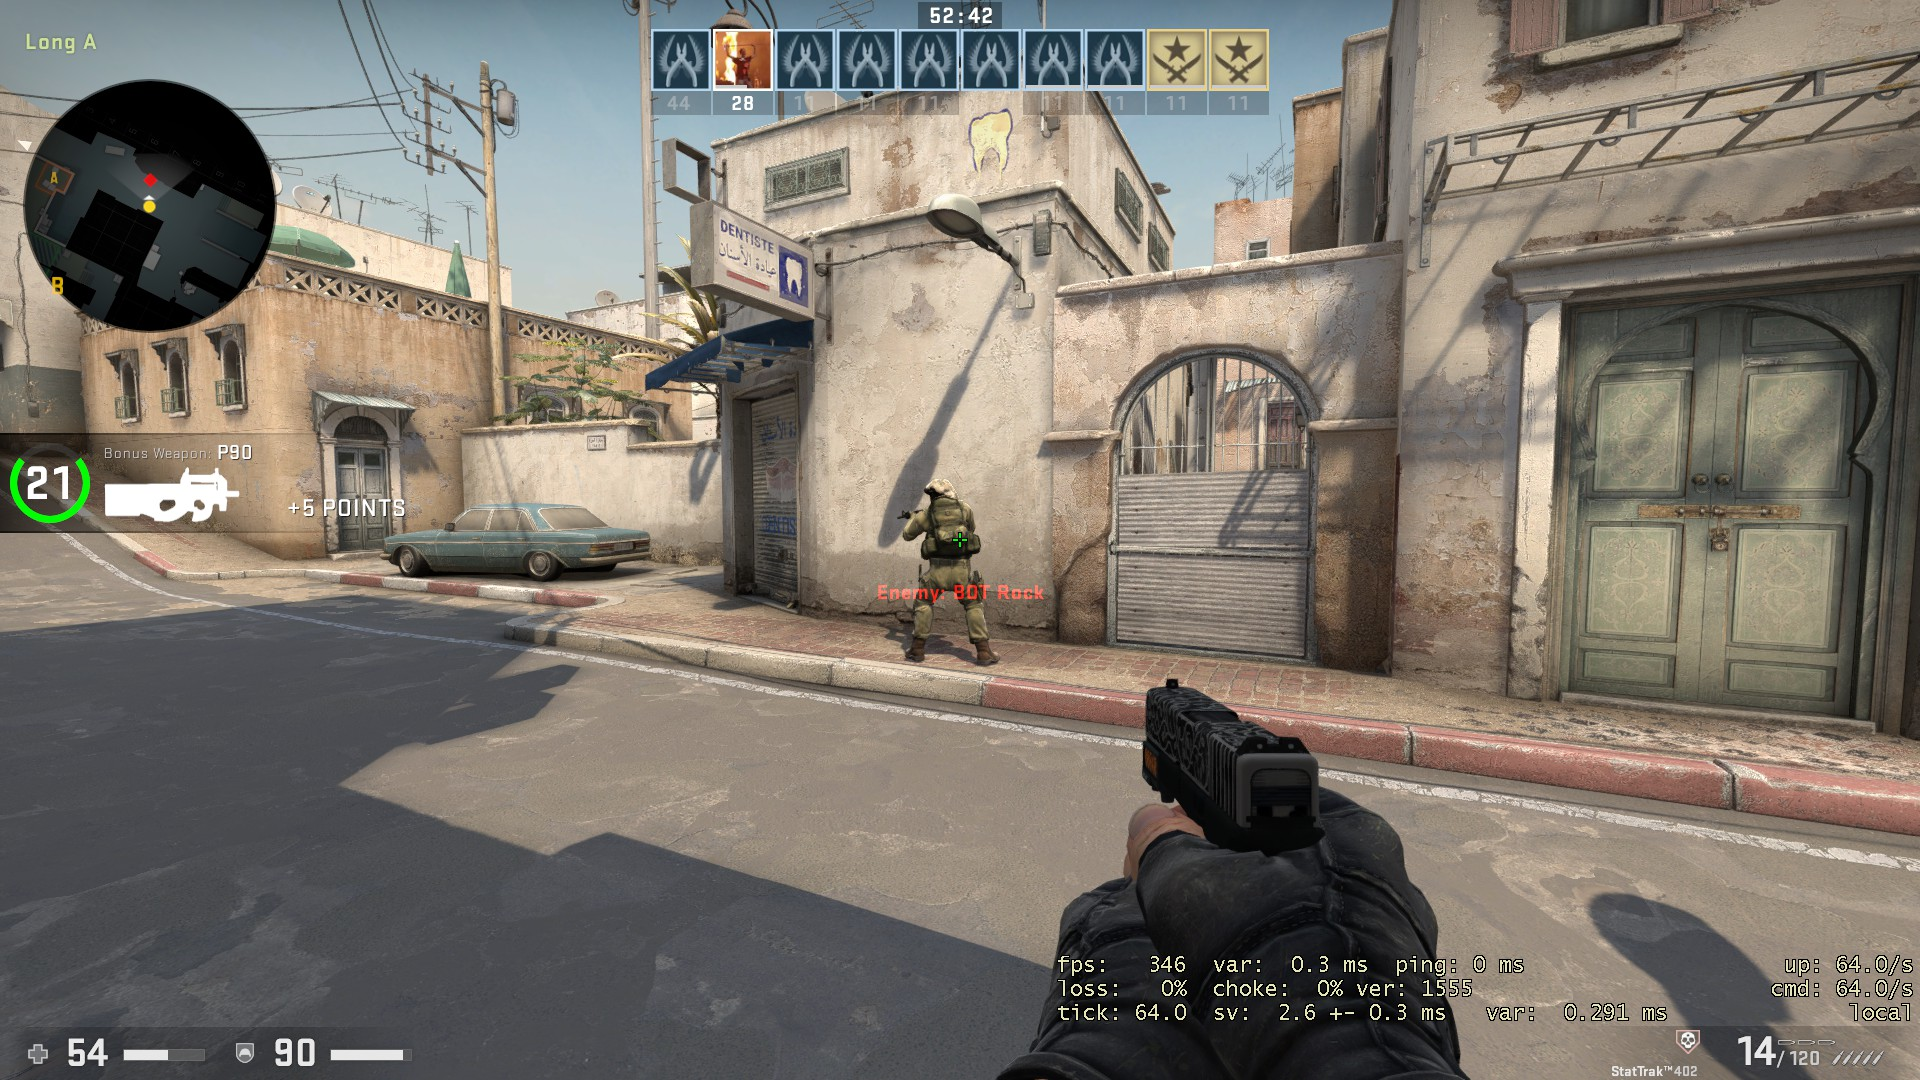ct: (887, 474, 1007, 672)
player: (889, 471, 1005, 670)
